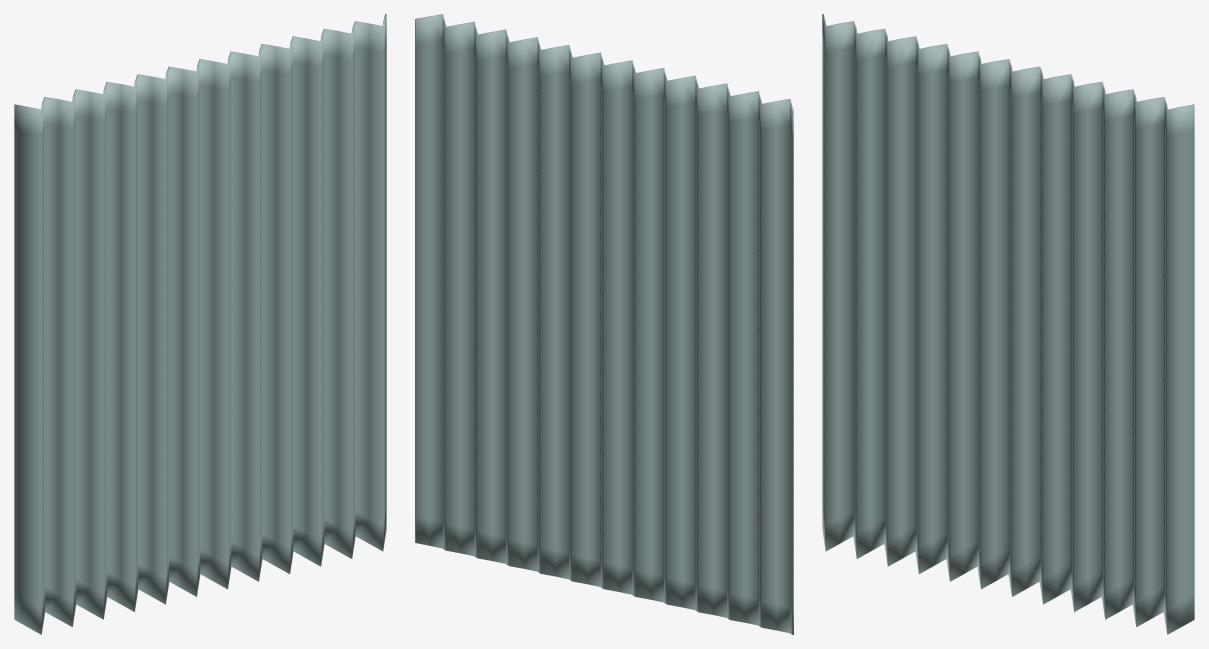
File: atelier-fabric-wall-hanging.glb
3 views of the same model, side by side, from view 1: azimuth 30°, elevation 25°; view 2: azimuth 150°, elevation 25°; view 3: azimuth 330°, elevation 25° (orthographic).
Visible parts, largest first — view 1: fabric.083; view 2: fabric.083; view 3: fabric.083.
Part boxes in pixels (x1,y1,x2,y2): fabric.083: (14,14,386,634); fabric.083: (415,14,793,634); fabric.083: (822,14,1194,634).
Size of the model in its own units: 0.9 by 1.21 by 0.053.
